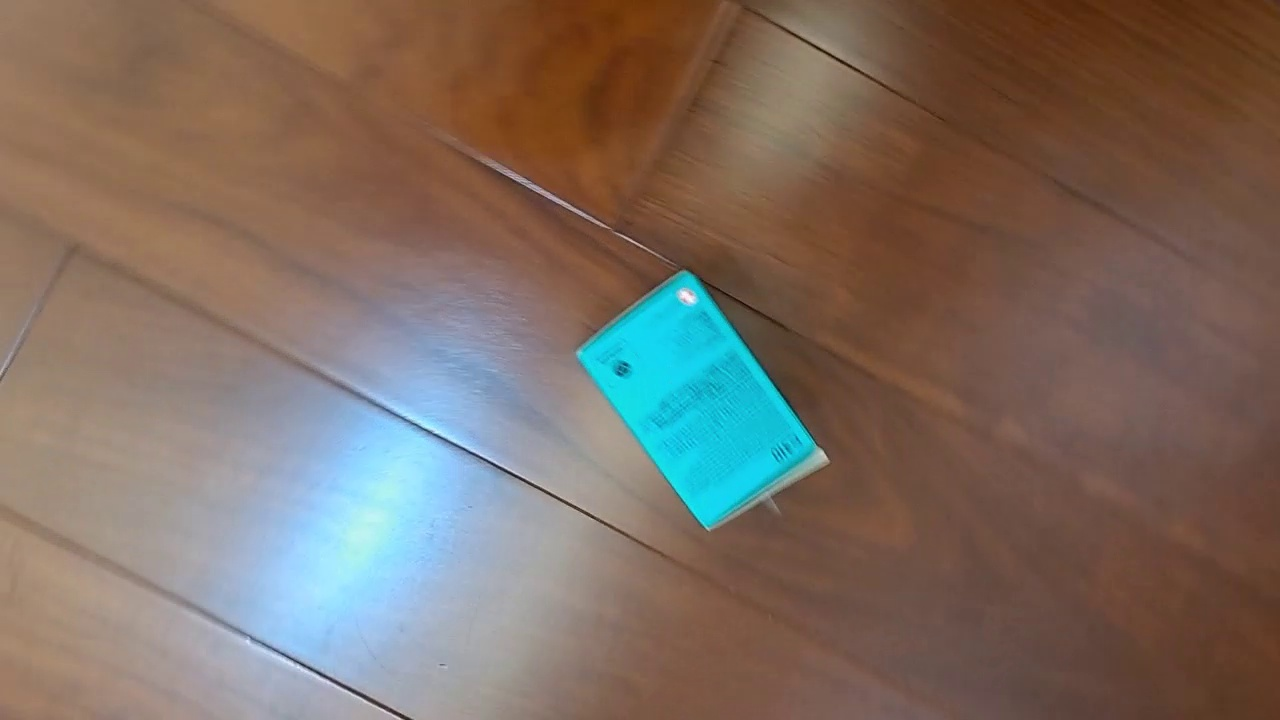webcam: (574, 267, 832, 533)
